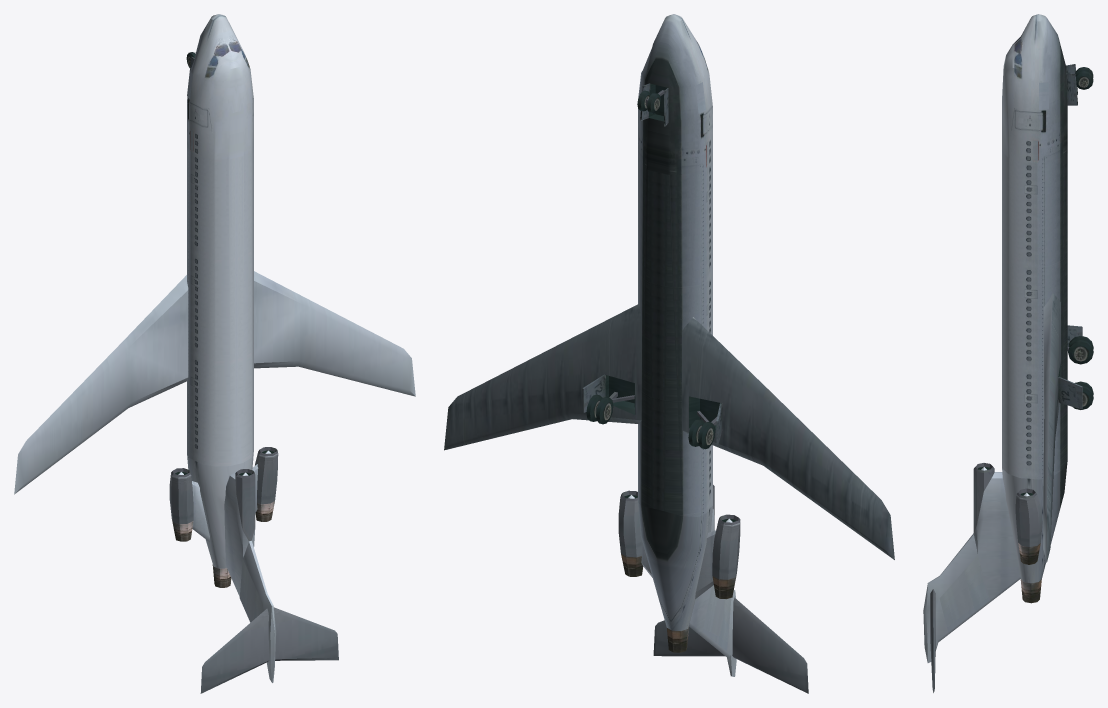
Rendered from 2_AirPlane.obj.
3 renders of one model, left to right at view 1: azimuth 30°, elevation 25°; view 2: azimuth 150°, elevation 25°; view 3: azimuth 270°, elevation 25°, orthographic. The views are drawn at different scales.
Visible parts, largest first — view 1: airplan; view 2: airplan; view 3: airplan.
Part boxes in pixels (left/top/right/bottom): airplan: left=14, top=14, right=415, bottom=693; airplan: left=444, top=14, right=894, bottom=693; airplan: left=923, top=14, right=1093, bottom=692.
Size of the model in its own units: 33.18 by 49.73 by 11.82.
Materials: 4 (4 with a texture image).
